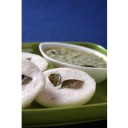idly: (40, 67, 96, 106), (22, 58, 45, 108)
